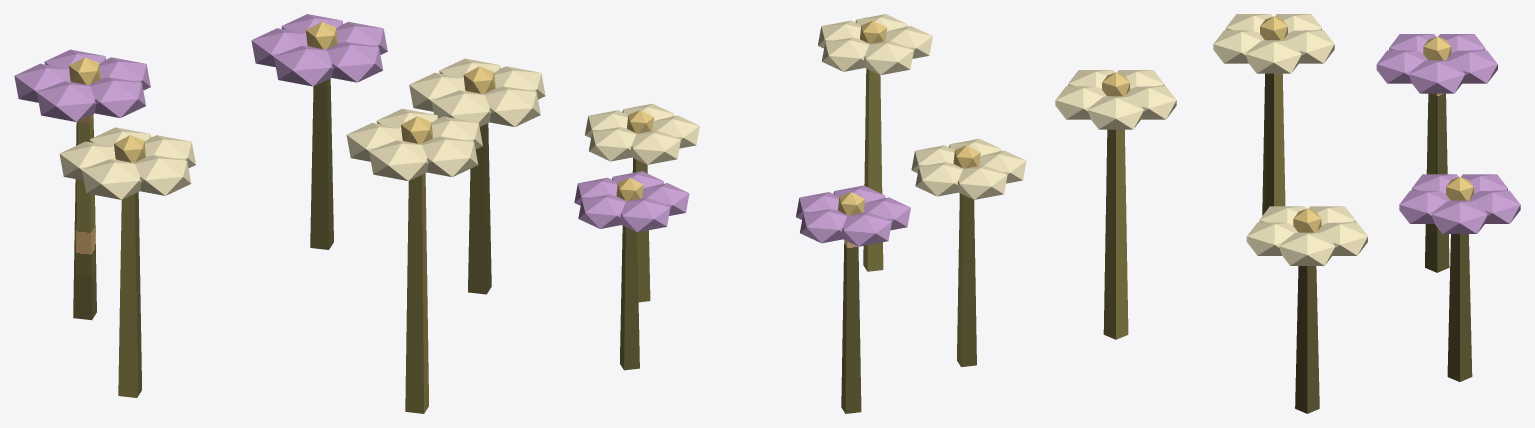
The model's file is enfeite_flores.fbx.
3 views of the same model, side by side, from view 1: azimuth 30°, elevation 25°; view 2: azimuth 150°, elevation 25°; view 3: azimuth 270°, elevation 25° (orthographic). The views are drawn at different scales.
Visible parts, largest first — view 1: deserto_enfeite_flores; view 2: deserto_enfeite_flores; view 3: deserto_enfeite_flores.
Part boxes in pixels (box(x1,y1,x2,y2)): deserto_enfeite_flores: box(14, 14, 545, 413); deserto_enfeite_flores: box(574, 14, 1026, 413); deserto_enfeite_flores: box(1055, 14, 1520, 413).
Bounding box in the file's own units: 36.6 × 21.1 × 33.9.
Materials: 4 (1 with a texture image).
